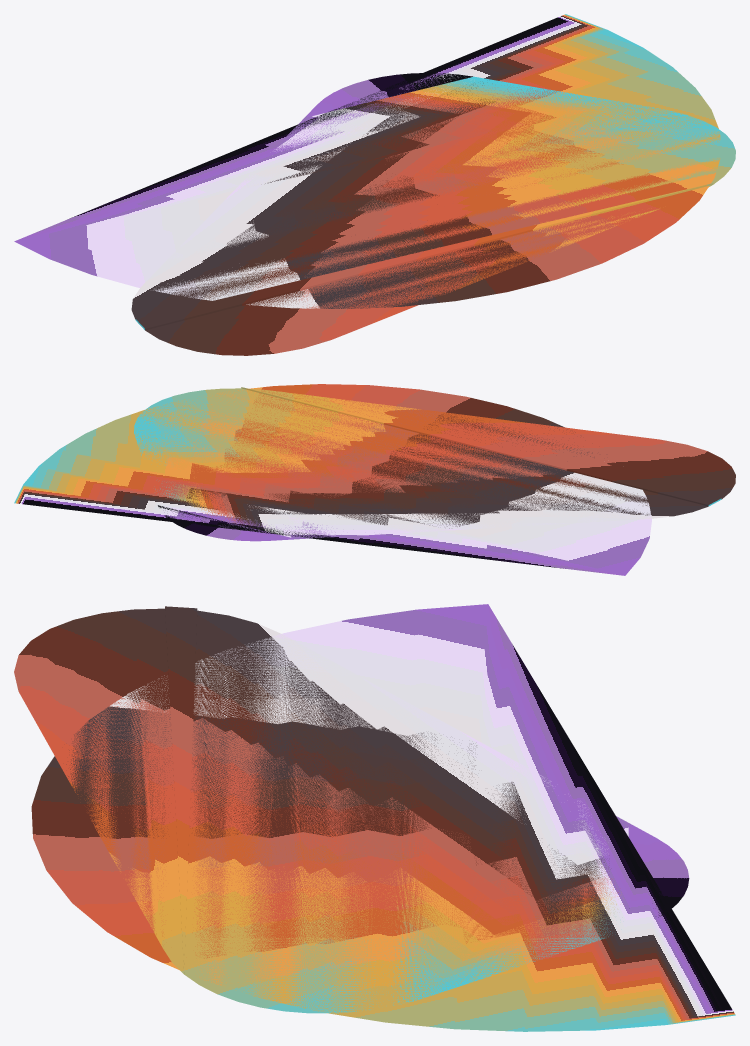
3 renders of one model, top to bottom at view 1: azimuth 30°, elevation 25°; view 2: azimuth 150°, elevation 25°; view 3: azimuth 270°, elevation 25°, orthographic. The views are drawn at different scales.
Visible parts, largest first — view 1: shape1, shape2; view 2: shape1, shape2; view 3: shape1, shape2.
Part boxes in pixels (box(x1,y1,x2,y2)): shape1: box(14, 14, 720, 308); shape2: box(131, 73, 735, 355); shape1: box(14, 384, 651, 575); shape2: box(134, 387, 735, 541); shape1: box(31, 604, 735, 1031); shape2: box(14, 606, 689, 1013).
Size of the model in its own units: 1.88 by 0.00461 by 1.34.
Materials: 1 (1 with a texture image).
